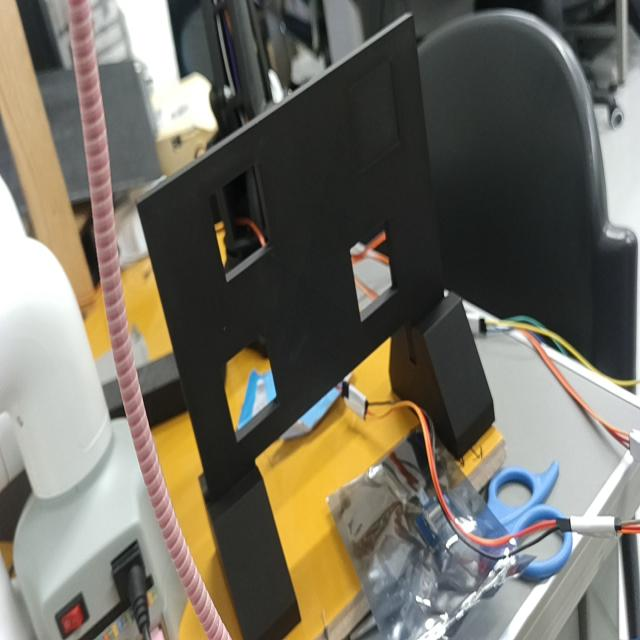Obstacle: (207, 163, 271, 280), (219, 333, 279, 441), (349, 213, 399, 316)
Wall: (139, 15, 442, 487)
